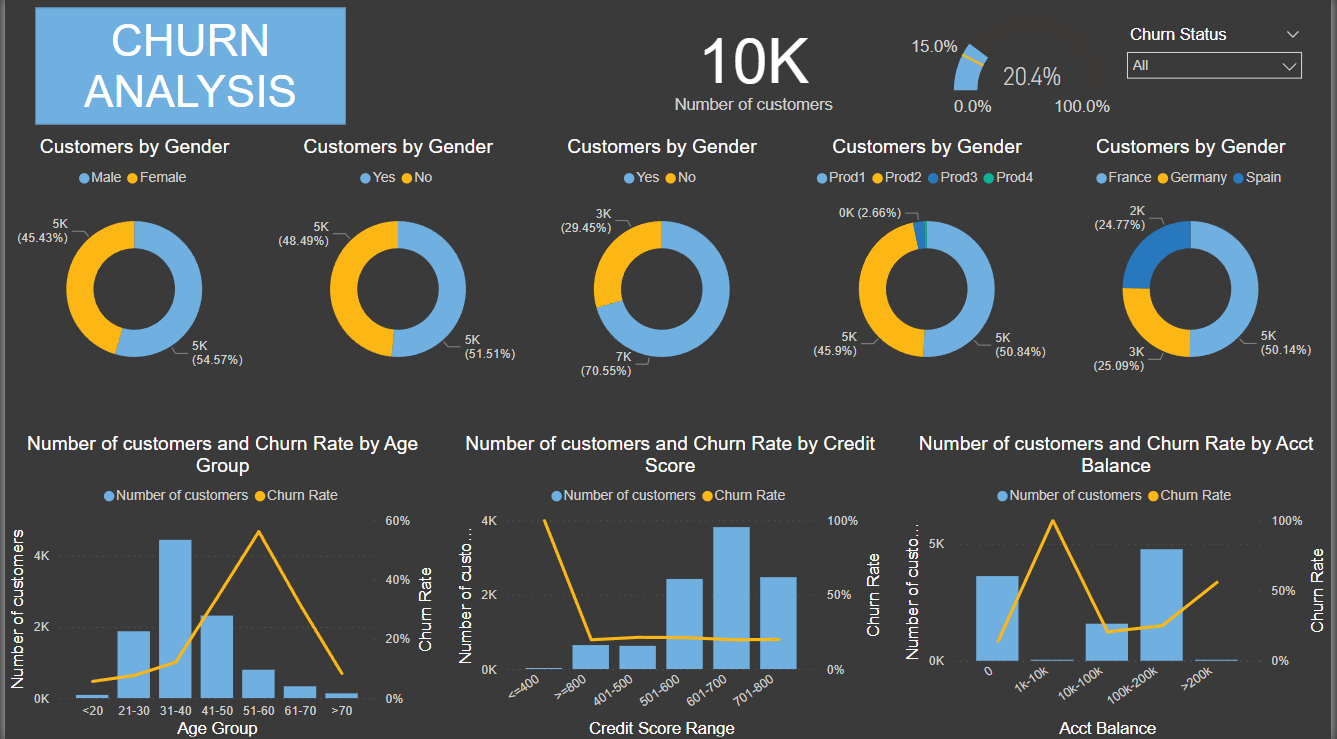

What the dashboard file says about the page in this screenshot:
{"tool":"powerbi","page":{"name":"Page 1","canvas":[1280,720],"ordinal":0},"visuals":[{"type":"card","fields":{"Values":["Bank Customer Churn Prediction.Number of customers"]},"box":[583.1,0,279.9,134.5],"z":0},{"type":"donutChart","title":"Customers by Gender","fields":{"Category":["Bank Customer Churn Prediction.Gender"],"Y":["Bank Customer Churn Prediction.Number of customers"]},"box":[1.9,135.6,245,245],"z":2000},{"type":"donutChart","title":"Customers by Gender","fields":{"Y":["Bank Customer Churn Prediction.Number of customers"],"Category":["Bank Customer Churn Prediction.Active Member"]},"box":[256.9,135.6,245,245],"z":3000},{"type":"donutChart","title":"Customers by Gender","fields":{"Y":["Bank Customer Churn Prediction.Number of customers"],"Category":["Bank Customer Churn Prediction.Credit Cards"]},"box":[511.9,135.6,245,245],"z":4000},{"type":"donutChart","title":"Customers by Gender","fields":{"Y":["Bank Customer Churn Prediction.Number of customers"],"Category":["Bank Customer Churn Prediction.Country"]},"box":[1021.9,135.6,245,245],"z":5000},{"type":"donutChart","title":"Customers by Gender","fields":{"Y":["Bank Customer Churn Prediction.Number of customers"],"Category":["Bank Customer Churn Prediction.Product"]},"box":[766.9,135.6,245,245],"z":6000},{"type":"lineStackedColumnComboChart","fields":{"Category":["Age Groups.Age Group"],"Y":["Bank Customer Churn Prediction.Number of customers"],"Y2":["Bank Customer Churn Prediction.Churn Rate"]},"box":[0,421,420,299],"z":6001},{"type":"lineStackedColumnComboChart","title":"Number of customers and Churn Rate by Credit Score","fields":{"Y":["Bank Customer Churn Prediction.Number of customers"],"Y2":["Bank Customer Churn Prediction.Churn Rate"],"Category":["Credit Range ID.Credit Score Range"]},"box":[431.5,421,420,299],"z":6002},{"type":"lineStackedColumnComboChart","fields":{"Y":["Bank Customer Churn Prediction.Number of customers"],"Y2":["Bank Customer Churn Prediction.Churn Rate"],"Category":["Acct Balance ID.Acct Balance"]},"box":[863,421,417,299],"z":6003},{"type":"slicer","fields":{"Values":["Bank Customer Churn Prediction.Churn Status"]},"box":[1072.1,8.6,189.5,123.5],"z":6004},{"type":"gauge","fields":{"Y":["Bank Customer Churn Prediction.Churn Rate"],"MaxValue":["Max(Bank Customer Churn Prediction.Maximum Churn Rate)"],"MinValue":["Min(Bank Customer Churn Prediction.Min Churn Rate)"],"TargetValue":["Max(Bank Customer Churn Prediction.Target Churn Rate)"]},"box":[863,0,207.8,134.5],"z":6006},{"type":"shape","box":[28.9,10.9,300.3,113.4],"z":6007},{"type":"textbox","box":[28.9,10.9,300.3,113.4],"z":6008}]}

Visuals, with their boxes in screenshot pixels (x1, y1, x2, y2), scaled from the page's 1280x720 canvas onto the 1337x739 screenshot:
card - Bank Customer Churn Prediction.Number of customers: region(609, 0, 901, 138)
"Customers by Gender" donutChart: region(2, 139, 258, 391)
"Customers by Gender" donutChart: region(268, 139, 524, 391)
"Customers by Gender" donutChart: region(535, 139, 791, 391)
"Customers by Gender" donutChart: region(1067, 139, 1323, 391)
"Customers by Gender" donutChart: region(801, 139, 1057, 391)
lineStackedColumnComboChart - Age Groups.Age Group x Bank Customer Churn Prediction.Number of customers: region(0, 432, 439, 738)
"Number of customers and Churn Rate by Credit Score" lineStackedColumnComboChart: region(451, 432, 889, 738)
lineStackedColumnComboChart - Bank Customer Churn Prediction.Number of customers x Bank Customer Churn Prediction.Churn Rate: region(901, 432, 1336, 738)
slicer - Bank Customer Churn Prediction.Churn Status: region(1120, 9, 1318, 136)
gauge - Bank Customer Churn Prediction.Churn Rate x Max(Bank Customer Churn Prediction.Maximum Churn Rate): region(901, 0, 1118, 138)
shape: region(30, 11, 344, 128)
textbox: region(30, 11, 344, 128)
